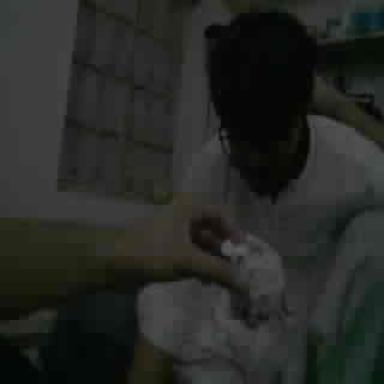paper: (222, 234, 284, 320)
